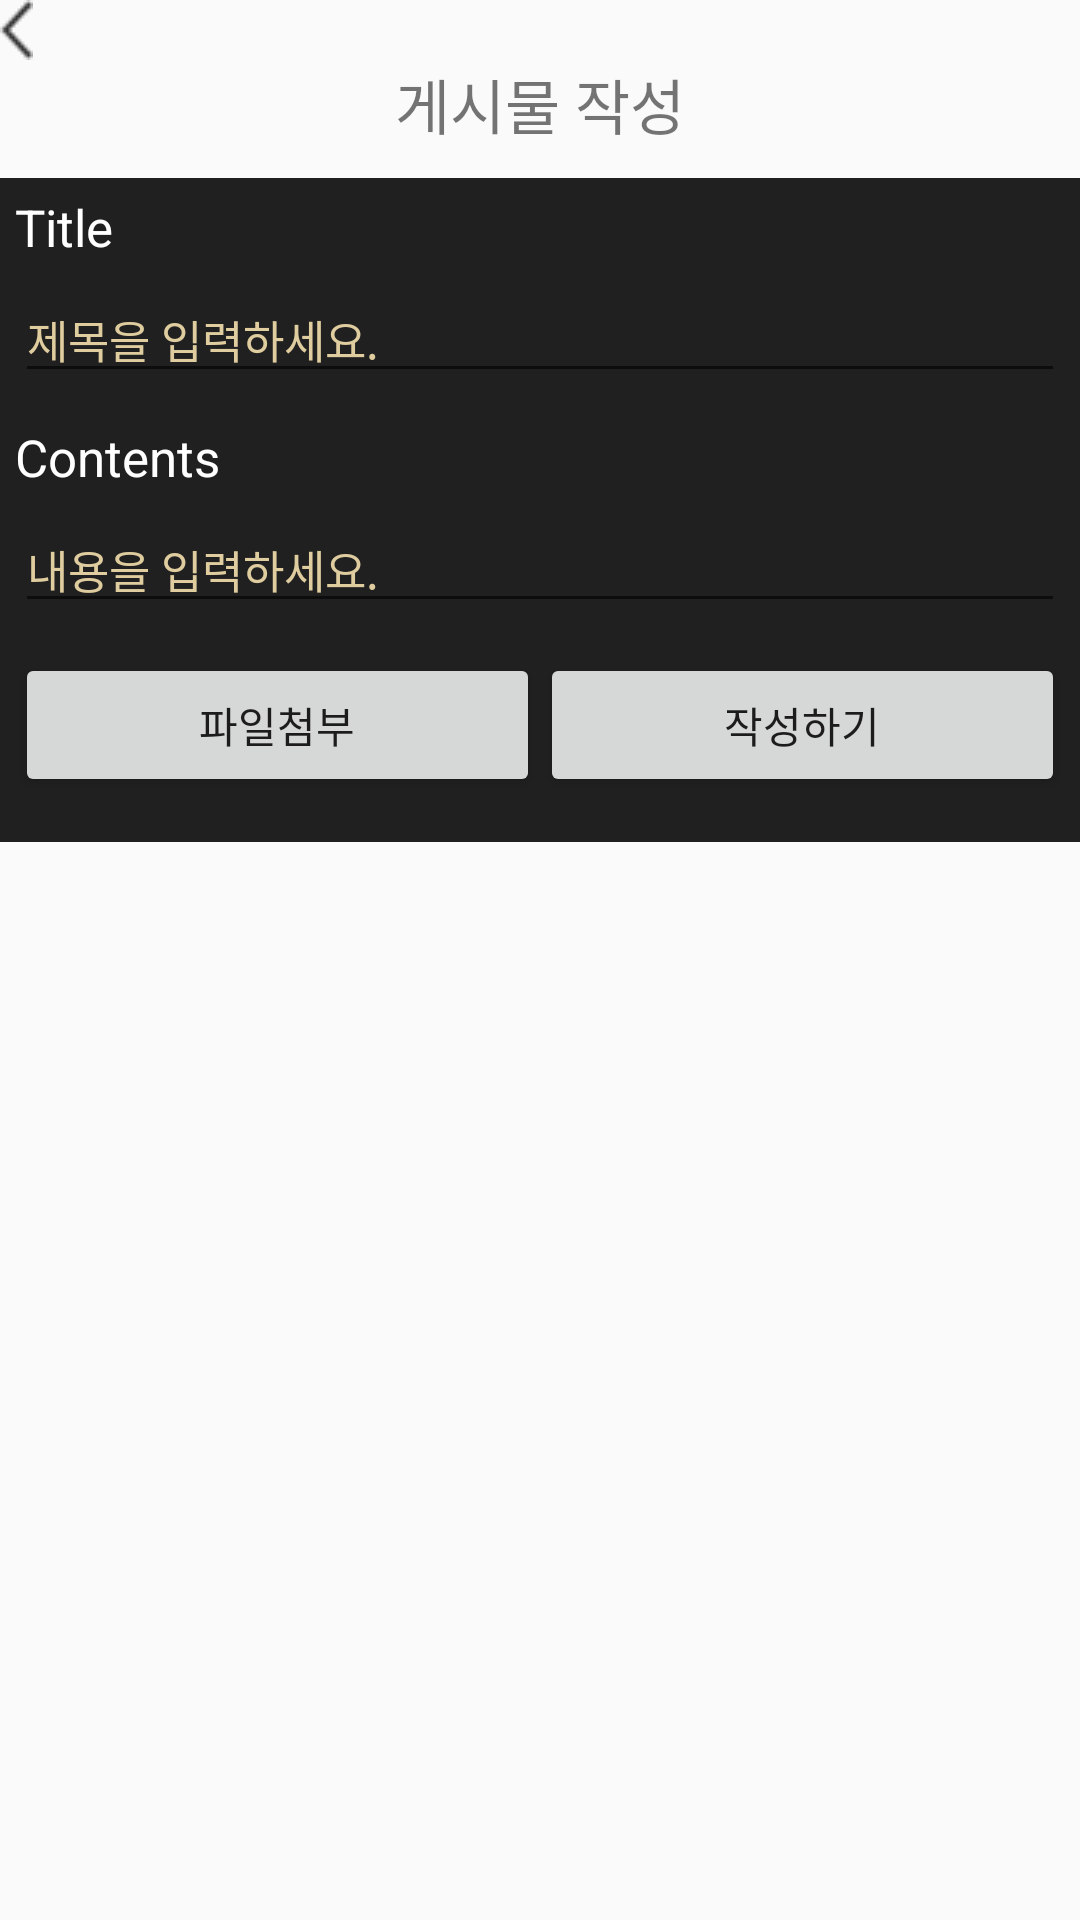

Icons on this 1080*1920 Android screen, each with the point to tap as [x,y]:
pre: [16,30]
